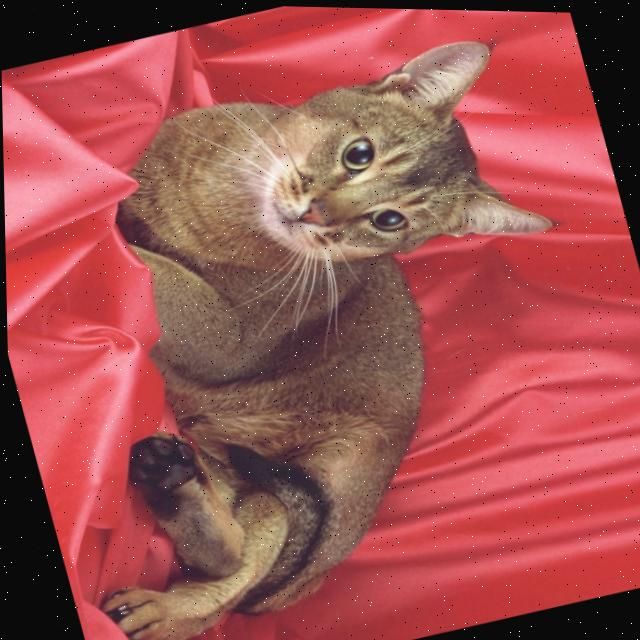Abyssinian: (0, 12, 640, 640)
